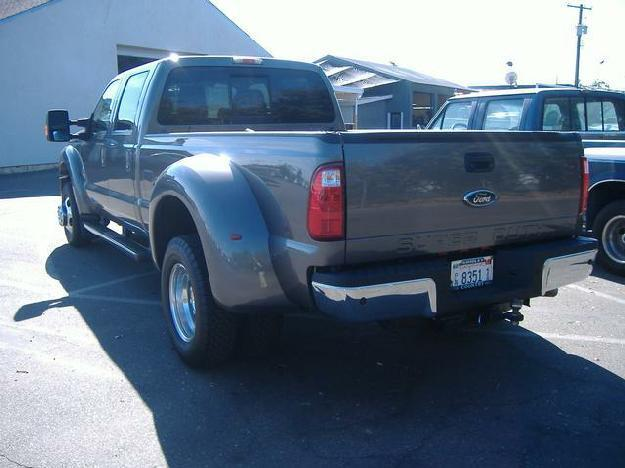Car: (20, 38, 605, 395)
